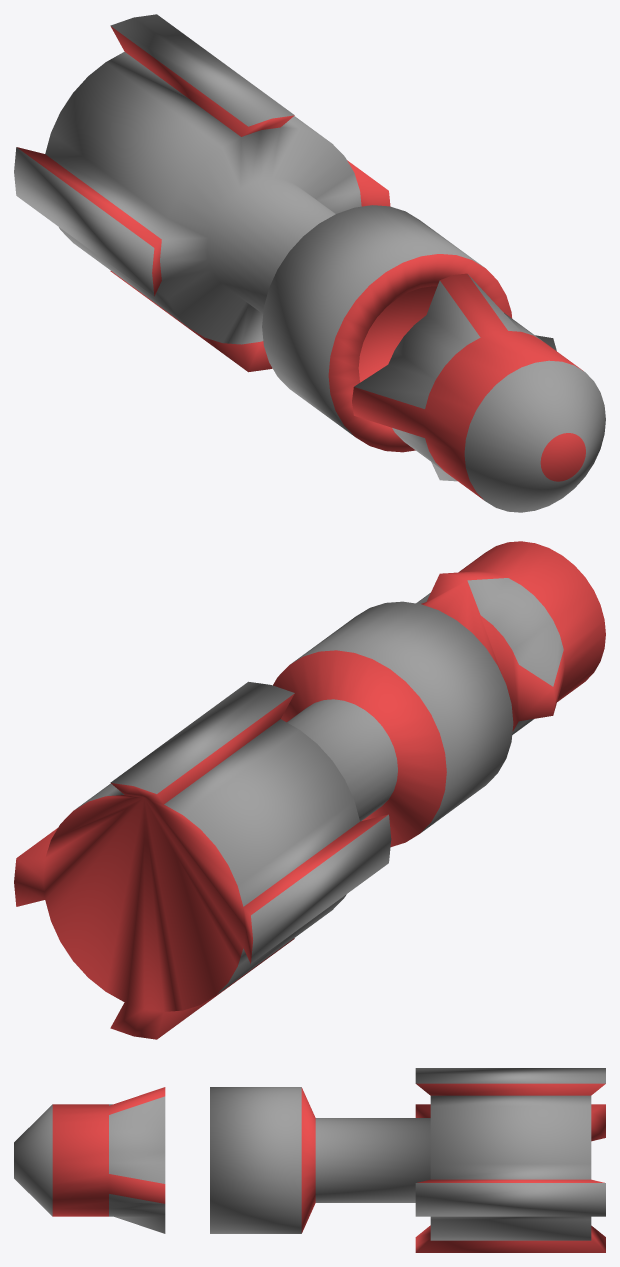
The model's file is RocketLauncher.fbx.
The picture shows the model from 3 angles, top to bottom: view 1: azimuth 30°, elevation 25°; view 2: azimuth 150°, elevation 25°; view 3: azimuth 270°, elevation 25°; orthographic projection. The views are drawn at different scales.
Visible parts, largest first — view 1: Cylinder, Cylinder.001; view 2: Cylinder, Cylinder.001; view 3: Cylinder, Cylinder.001.
Part boxes in pixels (x1=…): Cylinder: x1=14, y1=14, x2=512, y2=452; Cylinder.001: x1=352, y1=273, x2=605, y2=512; Cylinder: x1=14, y1=601, x2=513, y2=1039; Cylinder.001: x1=416, y1=541, x2=605, y2=734; Cylinder: x1=210, y1=1068, x2=605, y2=1252; Cylinder.001: x1=14, y1=1087, x2=165, y2=1233.
Size of the model in its own units: 237 by 237 by 736.
